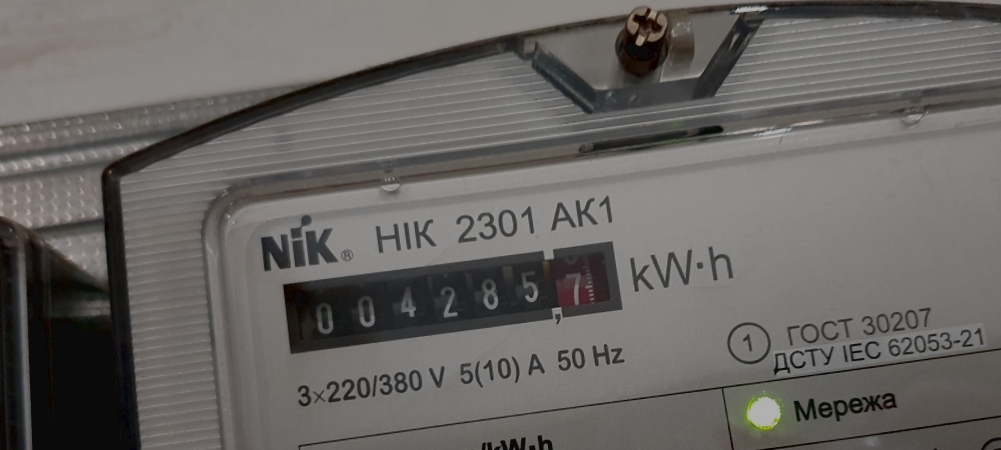0: (353, 290, 378, 329), (311, 298, 336, 335)
2: (436, 282, 459, 319)
4: (396, 282, 417, 319)
5: (516, 266, 541, 304)
7: (562, 269, 585, 307)
8: (476, 274, 501, 313)
screen: (265, 228, 639, 367)
